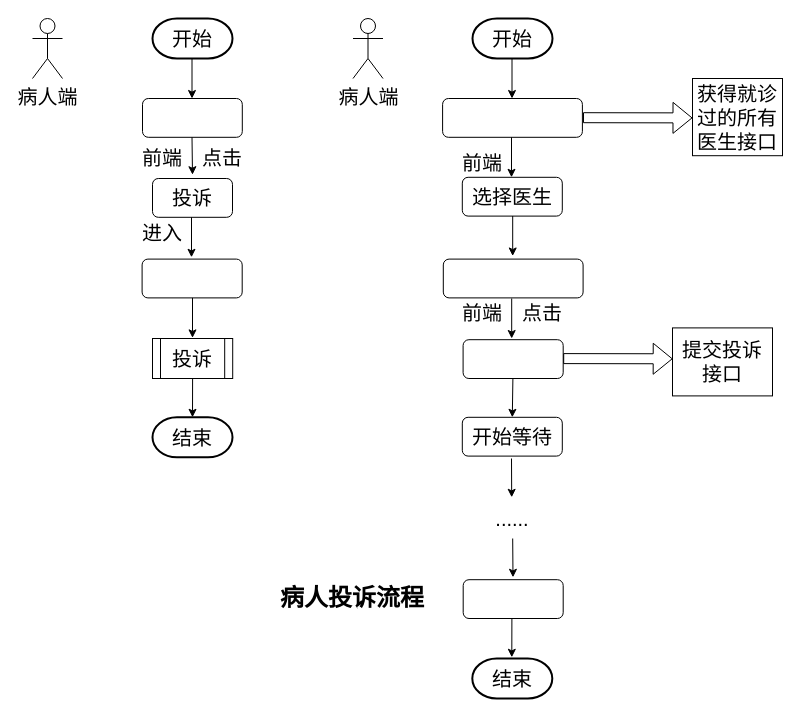
Image size: 800x716. Some labels were removed from this diagram. Each missing label, with the centre of its shape:
"填写投诉内容" belongs at pixel 512 278.
"导航页面" belongs at pixel 192 117.
"得到结果" belongs at pixel 512 598.
"投诉页面" belongs at pixel 191 278.
"提交投诉" belongs at pixel 512 358.
"获取医生列表" belongs at pixel 512 117.
